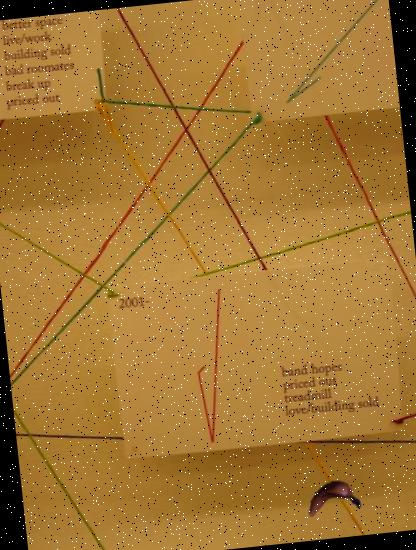Banana: (302, 469, 362, 529)
